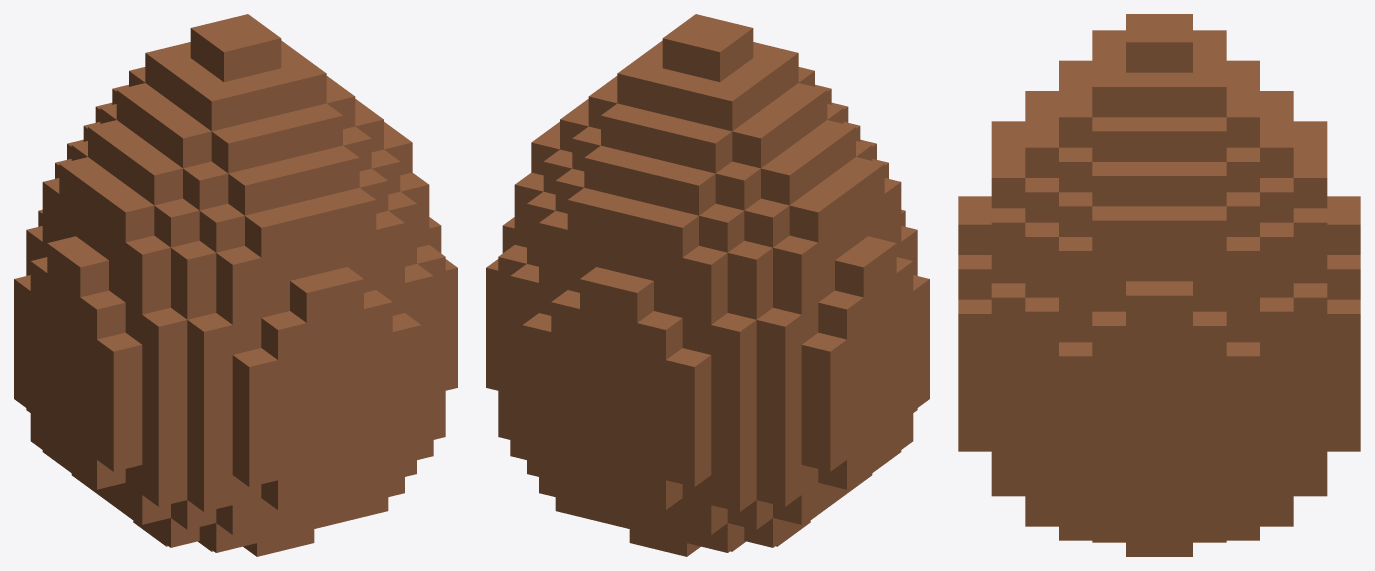
Rendered from Chocolate_Egg.glb.
The picture shows the model from 3 angles, left to right: view 1: azimuth 30°, elevation 25°; view 2: azimuth 150°, elevation 25°; view 3: azimuth 270°, elevation 25°; orthographic projection.
Parts seen in each view (by area): view 1: Cube_copy_copy_copy_copy_copy_copy_copy_copy_copy_copy_copy_ (×71), Cube_copy_1, Cube_copy_copy_copy_6, Cube_copy_copy_copy, Cube_copy_copy_copy_copy_copy_copy_copy_copy_copy, Cube_copy_copy_copy_9, Cube_copy_copy_copy_copy_copy_5, Cube_copy_4, Cube_copy_copy_copy_2, Cube_copy_copy_copy_copy_copy_copy_copy_copy_1, Cube_copy_copy_copy_copy_copy_8, Cube_copy_copy_copy_copy_copy_copy_6 (+59 smaller); view 2: Cube_copy_copy_copy_copy_copy_copy_copy_copy_copy_copy_copy_ (×71), Cube, Cube_copy_copy_copy_copy_copy_15, Cube_copy_copy_1, Cube_copy_copy_copy_copy_copy_17, Cube_copy_copy_copy_copy_copy_copy_copy_25, Cube_copy_copy_copy_20, Cube_copy_copy_4, Cube_copy_copy_copy_copy_copy_copy_copy_21, Cube_copy_copy_copy_copy_copy_copy_24, Cube_copy_copy_copy_copy_copy_copy_21, Cube_copy_copy_copy_copy_copy_copy_copy_copy_22 (+59 smaller); view 3: Cube_copy_copy_copy_copy_copy_copy_copy_copy_copy_copy_copy_ (×99), Cube_copy_copy_copy_copy_copy_copy_12, Cube_copy_copy_copy_copy_copy_copy_copy_copy_copy_copy_2, Cube_copy_copy_copy_copy_6, Cube_copy_5, Cube_copy_copy_12, Cube_copy_copy_copy_copy_copy_copy_19, Cube_copy_copy_copy_copy_18, Cube_copy_copy_8, Cube_copy_copy_copy_copy_4, Cube_copy_copy_copy_13, Cube_copy_copy_copy_copy_9 (+60 smaller).
Part boxes in pixels (bbox=[...]): Cube_copy_copy_copy_copy_copy_copy_copy_copy_copy_copy_copy_ (×71): bbox=[26, 21, 445, 552]; Cube_copy_1: bbox=[80, 290, 125, 339]; Cube_copy_copy_copy_6: bbox=[290, 274, 335, 322]; Cube_copy_copy_copy: bbox=[63, 248, 108, 297]; Cube_copy_copy_copy_copy_copy_copy_copy_copy_copy: bbox=[125, 235, 170, 284]; Cube_copy_copy_copy_9: bbox=[232, 348, 277, 396]; Cube_copy_copy_copy_copy_copy_5: bbox=[142, 308, 187, 356]; Cube_copy_4: bbox=[261, 311, 306, 359]; Cube_copy_copy_copy_2: bbox=[97, 332, 142, 381]; Cube_copy_copy_copy_copy_copy_copy_copy_copy_1: bbox=[125, 273, 170, 314]; Cube_copy_copy_copy_copy_copy_8: bbox=[232, 415, 277, 456]; Cube_copy_copy_copy_copy_copy_copy_6: bbox=[142, 405, 187, 446]; Cube_copy_copy_copy_copy_copy_copy_copy_copy_copy_copy_copy_ (×71): bbox=[510, 21, 884, 552]; Cube: bbox=[818, 290, 863, 339]; Cube_copy_copy_copy_copy_copy_15: bbox=[608, 274, 653, 322]; Cube_copy_copy_1: bbox=[835, 248, 880, 297]; Cube_copy_copy_copy_copy_copy_17: bbox=[666, 348, 711, 396]; Cube_copy_copy_copy_copy_copy_copy_copy_25: bbox=[711, 313, 756, 361]; Cube_copy_copy_copy_20: bbox=[637, 311, 682, 359]; Cube_copy_copy_4: bbox=[801, 332, 846, 381]; Cube_copy_copy_copy_copy_copy_copy_copy_21: bbox=[666, 415, 711, 456]; Cube_copy_copy_copy_copy_copy_copy_24: bbox=[711, 350, 756, 391]; Cube_copy_copy_copy_copy_copy_copy_21: bbox=[666, 385, 711, 426]; Cube_copy_copy_copy_copy_copy_copy_copy_copy_22: bbox=[711, 410, 756, 451]; Cube_copy_copy_copy_copy_copy_copy_copy_copy_copy_copy_copy_ (×99): bbox=[991, 14, 1327, 556]; Cube_copy_copy_copy_copy_copy_copy_12: bbox=[991, 283, 1025, 327]; Cube_copy_copy_copy_copy_copy_copy_copy_copy_copy_copy_2: bbox=[991, 208, 1025, 252]; Cube_copy_copy_copy_copy_6: bbox=[958, 299, 991, 344]; Cube_copy_5: bbox=[1092, 311, 1125, 356]; Cube_copy_copy_12: bbox=[1193, 311, 1226, 356]; Cube_copy_copy_copy_copy_copy_copy_19: bbox=[1260, 297, 1293, 342]; Cube_copy_copy_copy_copy_18: bbox=[1327, 299, 1360, 344]; Cube_copy_copy_8: bbox=[958, 255, 991, 299]; Cube_copy_copy_copy_copy_4: bbox=[958, 210, 991, 254]; Cube_copy_copy_copy_13: bbox=[1126, 281, 1159, 325]; Cube_copy_copy_copy_copy_9: bbox=[1159, 281, 1192, 325].
Bounding box in the file's own units: 1.2 × 1.6 × 1.2.
